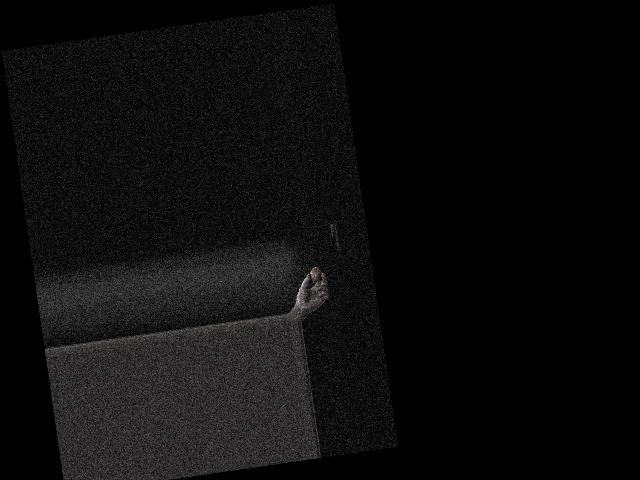egg: (309, 266, 322, 284)
